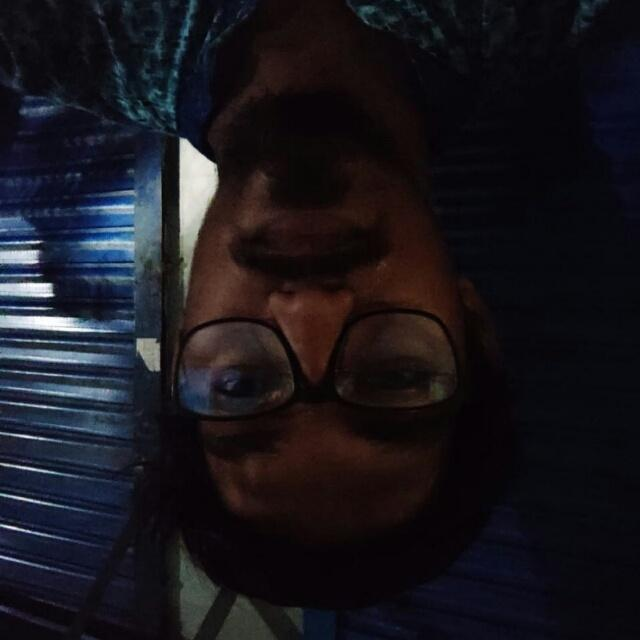Natural: (180, 133, 501, 618)
